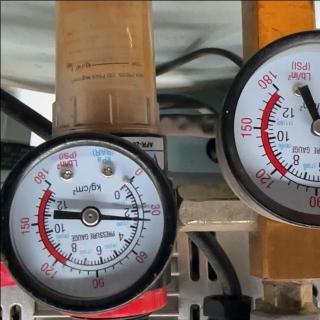gauge: (1, 128, 175, 318), (216, 23, 320, 233), (79, 205, 101, 227), (36, 171, 56, 192), (264, 75, 284, 96), (123, 166, 143, 186), (310, 116, 320, 136), (143, 215, 153, 223)
